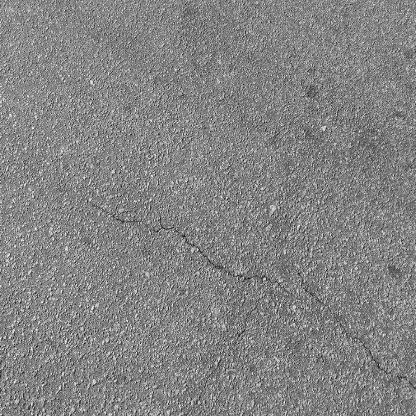Cracks: (84, 197, 416, 401), (174, 355, 227, 416), (233, 295, 266, 349)
